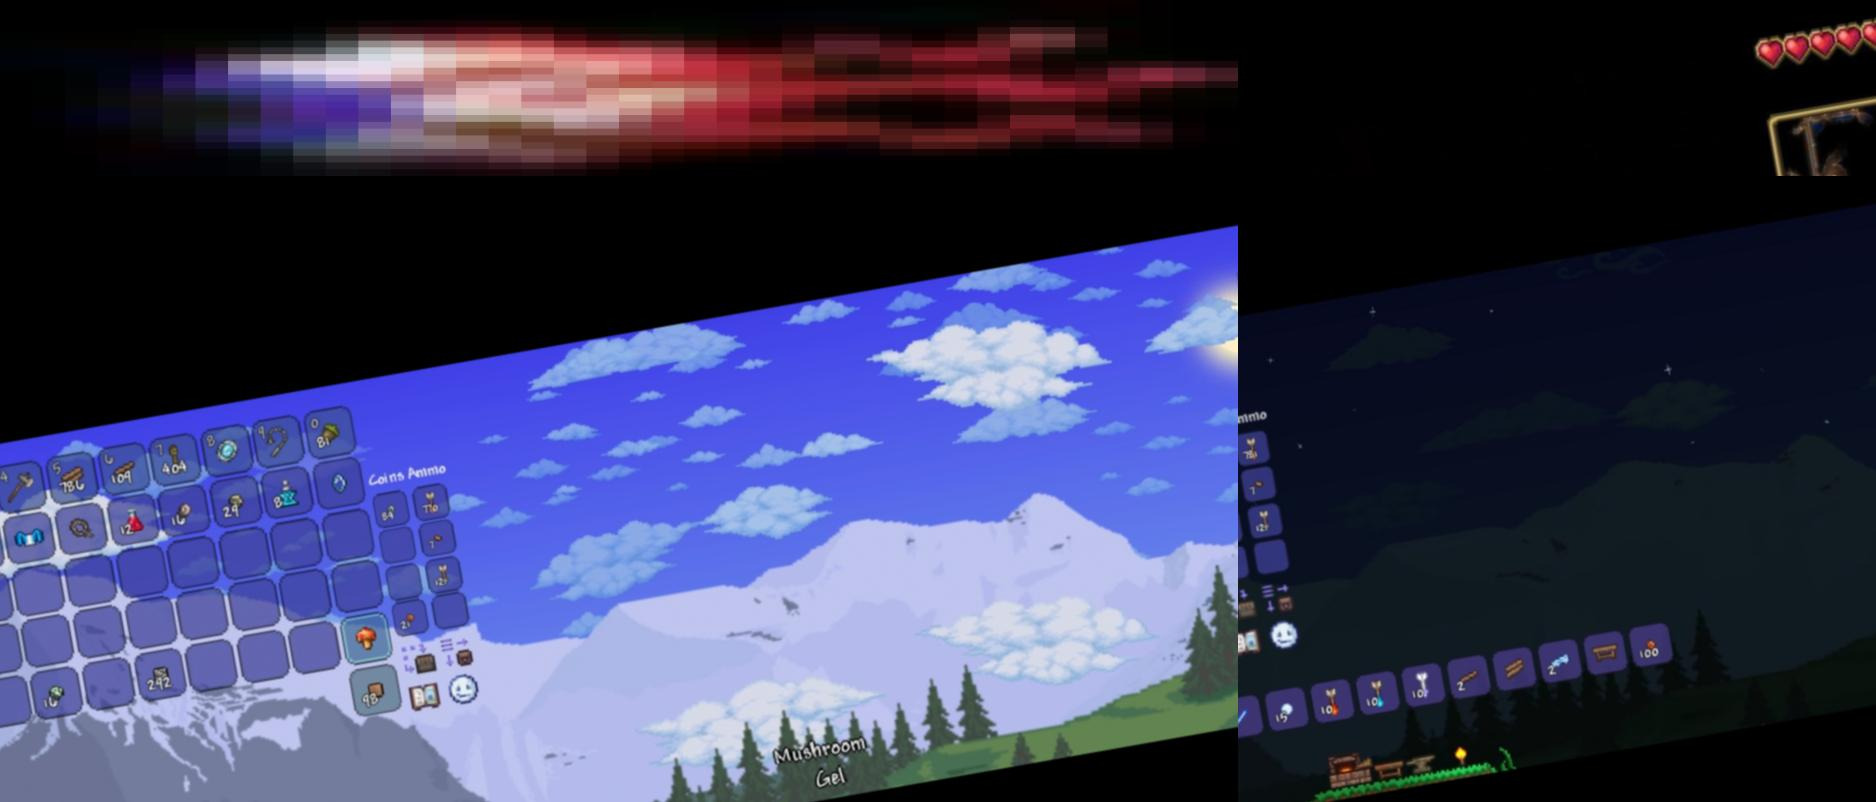eye: (0, 0, 1238, 176)
heart: (1753, 35, 1789, 71)
potion: (122, 503, 144, 537)
